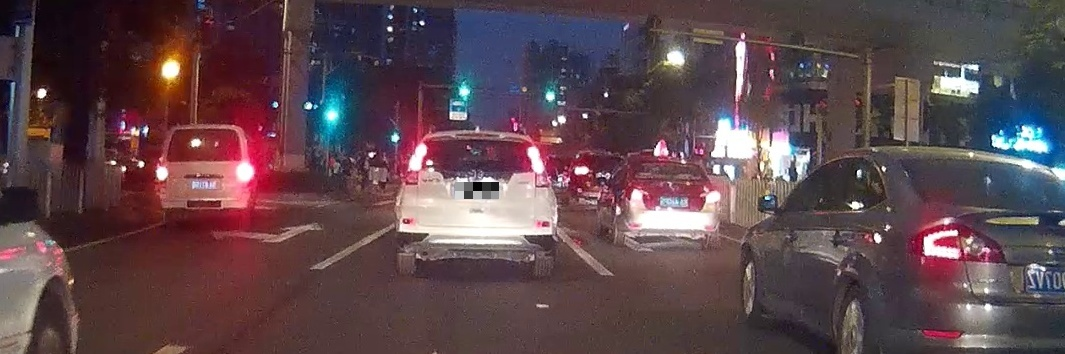L_light: (404, 143, 428, 186), (156, 164, 168, 187), (629, 188, 643, 201)
R_light: (527, 146, 552, 187), (237, 161, 252, 188), (705, 190, 720, 203)
T_light: (467, 139, 488, 145), (195, 128, 212, 134), (663, 163, 678, 168)
night-no: (395, 130, 557, 277), (629, 155, 720, 248)
night-right: (156, 124, 252, 229)
plate_1: (455, 182, 499, 199)
